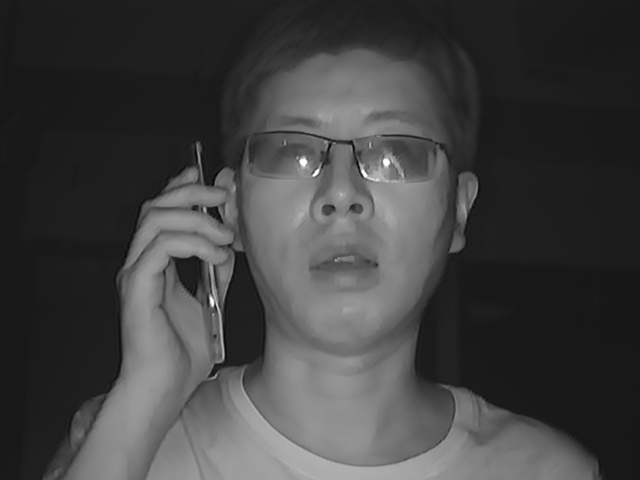hand: (118, 167, 237, 385)
